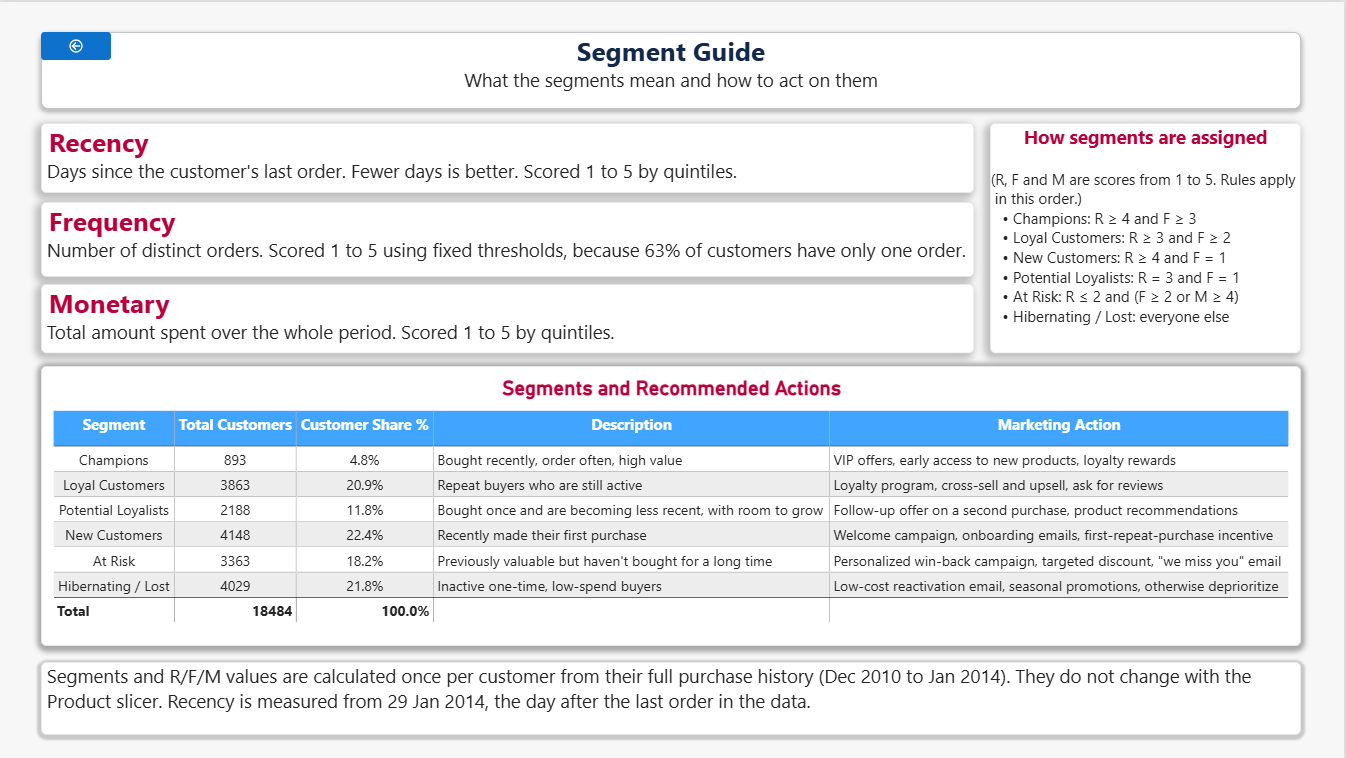

The dashboard page shown, as its layout file describes it:
{"tool":"powerbi","page":{"name":"Segment Guide","canvas":[1920,1080],"ordinal":3},"visuals":[{"type":"textbox","box":[58.3,43.3,1800,110],"z":0},{"type":"textbox","box":[58.6,172.9,1332.9,100],"z":1000},{"type":"textbox","box":[58.6,285.7,1332.9,107.1],"z":2000},{"type":"textbox","box":[58.6,402.9,1332.9,98.6],"z":3000},{"type":"tableEx","title":"Segments and Recommended Actions","fields":{"Values":["Segment Guide.Segment","_Measures.Total Customers","_Measures.Customer Share %","Segment Guide.Description","Segment Guide.Marketing Action"]},"box":[58.6,520,1800,400],"z":4000},{"type":"textbox","box":[58.6,942.9,1800,104.3],"z":5000},{"type":"textbox","box":[1414.3,172.9,444.3,328.6],"z":6000},{"type":"actionButton","box":[58.6,42.9,100,40],"z":6001}]}

Visuals, with their boxes in screenshot pixels (x1, y1, x2, y2), scaled from the page's 1920x1080 canvas onto the 1346x758 screenshot:
textbox: bbox=[41, 30, 1303, 108]
textbox: bbox=[41, 121, 975, 192]
textbox: bbox=[41, 201, 975, 276]
textbox: bbox=[41, 283, 975, 352]
"Segments and Recommended Actions" tableEx: bbox=[41, 365, 1303, 646]
textbox: bbox=[41, 662, 1303, 735]
textbox: bbox=[991, 121, 1303, 352]
actionButton: bbox=[41, 30, 111, 58]
